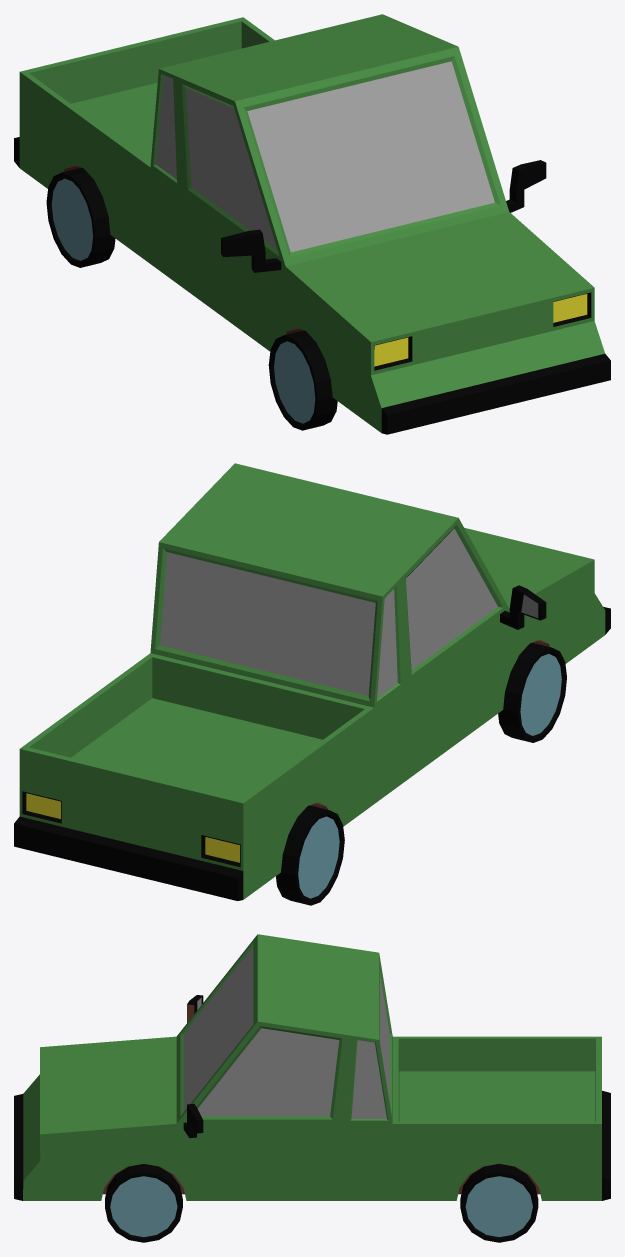
The model's file is Pickup Truck 1.fbx.
3 views of the same model, one above another, from view 1: azimuth 30°, elevation 25°; view 2: azimuth 150°, elevation 25°; view 3: azimuth 270°, elevation 25° (orthographic). The views are drawn at different scales.
Visible parts, largest first — view 1: Pickup Truck Body.001, Wheel RR.008, Wheel FR.009; view 2: Pickup Truck Body.001, Wheel RR.008, Wheel FR.009; view 3: Pickup Truck Body.001, Wheel RL.008, Wheel FL.009.
Part boxes in pixels (x1,y1,x2,y2): Pickup Truck Body.001: (14, 14, 610, 434); Wheel RR.008: (46, 167, 115, 267); Wheel FR.009: (268, 330, 337, 430); Pickup Truck Body.001: (14, 463, 610, 900); Wheel RR.008: (276, 805, 344, 905); Wheel FR.009: (498, 643, 566, 742); Pickup Truck Body.001: (14, 934, 610, 1200); Wheel RL.008: (460, 1164, 538, 1242); Wheel FL.009: (105, 1164, 182, 1242).
Size of the model in its own units: 2.22 by 1.78 by 4.45.
